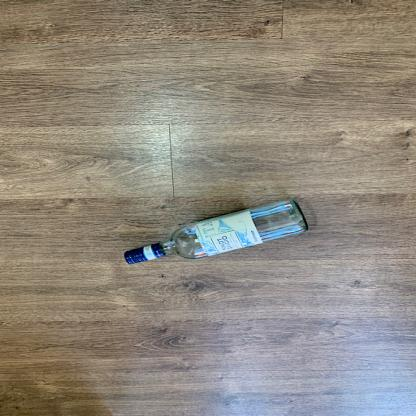trash: (120, 198, 316, 270)
